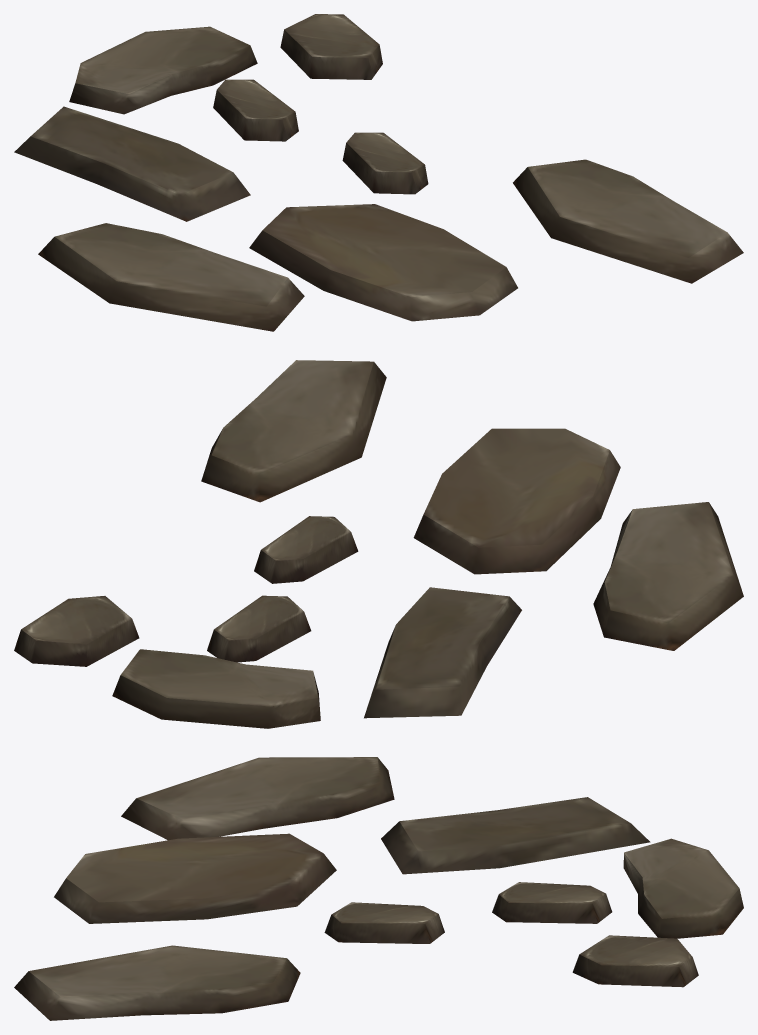
File: XiaoShiTou03.FBX
3 renders of one model, top to bottom at view 1: azimuth 30°, elevation 25°; view 2: azimuth 150°, elevation 25°; view 3: azimuth 270°, elevation 25°, orthographic. The views are drawn at different scales.
Visible parts, largest first — view 1: XiaoShiTou03; view 2: XiaoShiTou03; view 3: XiaoShiTou03.
Boxes of the visible parts, x1,y1,x2,y2 form: XiaoShiTou03: [14, 14, 743, 331]; XiaoShiTou03: [14, 360, 743, 728]; XiaoShiTou03: [14, 757, 743, 1020].
Size of the model in its own units: 117 by 4.04 by 144.
